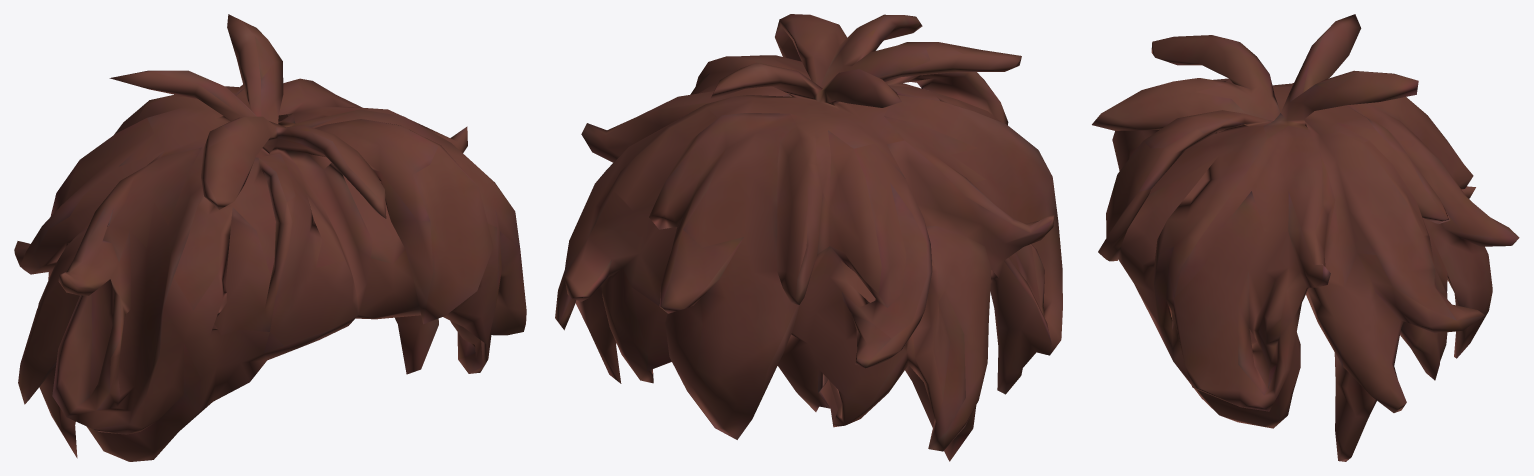
The model's file is hair_middlepart.glb.
The picture shows the model from 3 angles, left to right: view 1: azimuth 30°, elevation 25°; view 2: azimuth 150°, elevation 25°; view 3: azimuth 270°, elevation 25°; orthographic projection. The views are drawn at different scales.
Parts seen in each view (by area): view 1: geometry_0.002; view 2: geometry_0.002; view 3: geometry_0.002.
Part boxes in pixels (left/top/right/bottom): geometry_0.002: left=14, top=14, right=526, bottom=461; geometry_0.002: left=555, top=14, right=1062, bottom=461; geometry_0.002: left=1092, top=14, right=1519, bottom=461.
Size of the model in its own units: 0.6253 by 0.4913 by 0.5797.
Materials: 1 (1 with a texture image).
